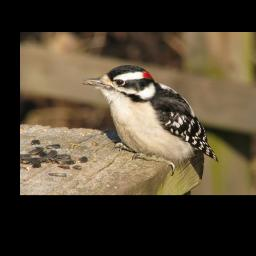Woodpecker: (79, 66, 221, 176)
